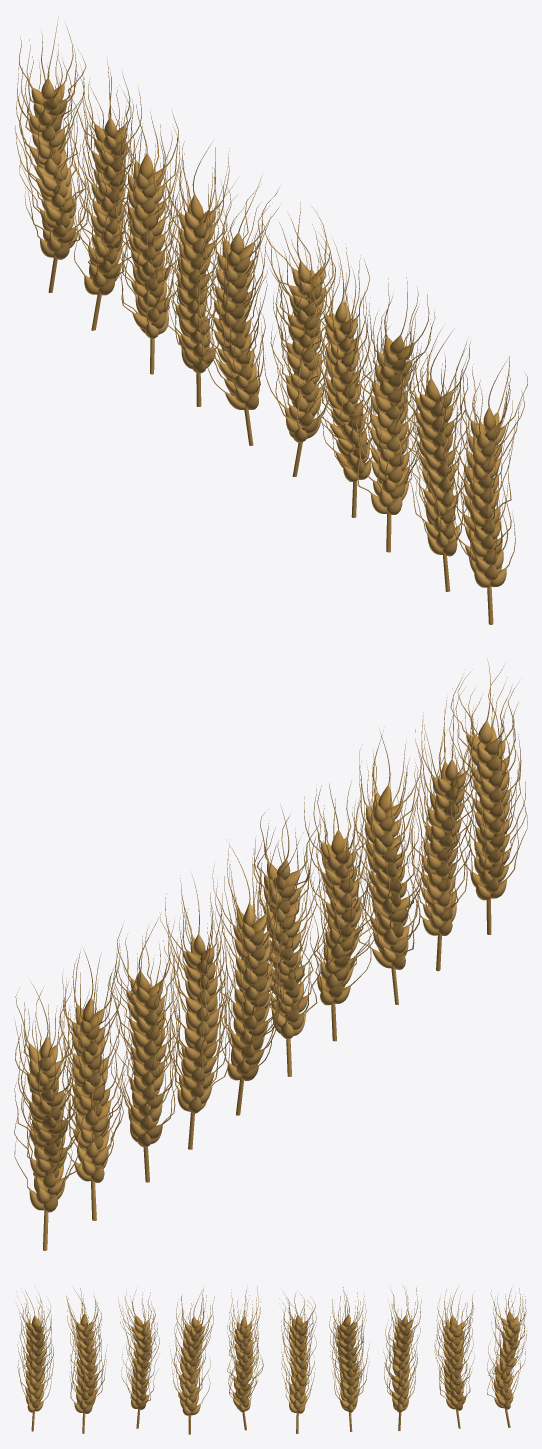
Rendered from wheat.glb.
3 renders of one model, top to bottom at view 1: azimuth 30°, elevation 25°; view 2: azimuth 150°, elevation 25°; view 3: azimuth 270°, elevation 25°, orthographic. The views are drawn at different scales.
Parts seen in each view (by area): view 1: Oats_10, Oats_06, Oats_08, Oats_03, Oats_01, Oats_05, Oats_02, Oats_04, Oats_09, Oats_07; view 2: Oats_03, Oats_06, Oats_01, Oats_07, Oats_08, Oats_09, Oats_10, Oats_04, Oats_02, Oats_05; view 3: Oats_02, Oats_04, Oats_07, Oats_09, Oats_01, Oats_06, Oats_05, Oats_10, Oats_08, Oats_03.
Part boxes in pixels (box(x1,y1,x2,y2)): Oats_10: box(14, 17, 87, 292); Oats_06: box(198, 176, 279, 445); Oats_08: box(112, 102, 187, 374); Oats_03: box(354, 273, 435, 552); Oats_01: box(444, 356, 527, 624); Oats_05: box(259, 202, 340, 476); Oats_02: box(397, 328, 470, 591); Oats_04: box(306, 240, 377, 517); Oats_09: box(68, 59, 141, 330); Oats_07: box(160, 141, 231, 406); Oats_03: box(352, 730, 424, 1004); Oats_06: box(212, 839, 288, 1115); Oats_01: box(449, 658, 527, 934); Oats_07: box(159, 875, 231, 1149); Oats_08: box(107, 914, 184, 1182); Oats_09: box(59, 949, 128, 1220); Oats_10: box(14, 980, 91, 1250); Oats_04: box(303, 781, 380, 1041); Oats_02: box(407, 688, 477, 971); Oats_05: box(252, 805, 325, 1076); Oats_02: box(66, 1288, 107, 1433); Oats_04: box(169, 1288, 214, 1434); Oats_07: box(329, 1287, 369, 1431); Oats_09: box(434, 1288, 475, 1428); Oats_01: box(17, 1286, 54, 1431); Oats_06: box(279, 1292, 316, 1433); Oats_05: box(227, 1286, 263, 1430); Oats_10: box(487, 1288, 526, 1427); Oats_08: box(383, 1286, 421, 1430); Oats_03: box(118, 1289, 159, 1428).
Size of the model in its own units: 63.75 by 212 by 647.
1 material, 1 textured.
